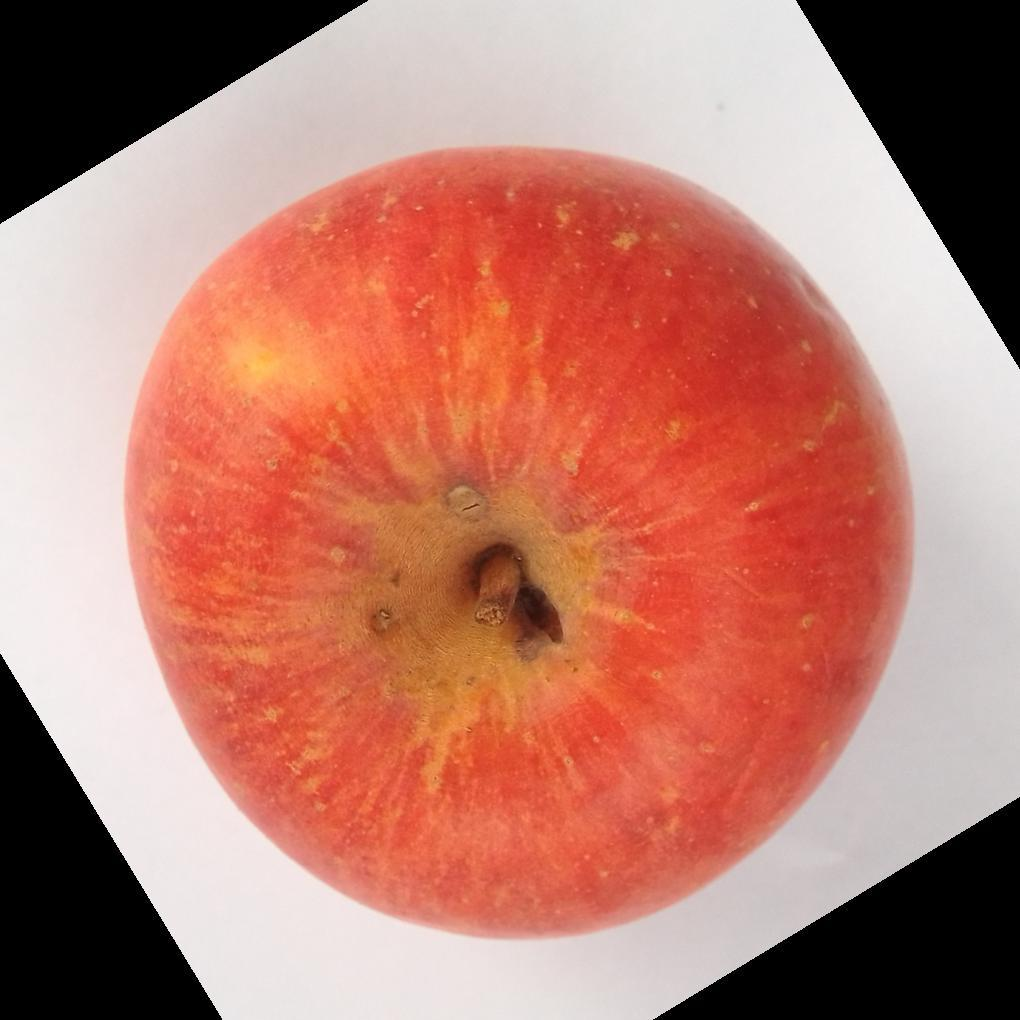FreshGuava: (119, 146, 915, 947)
